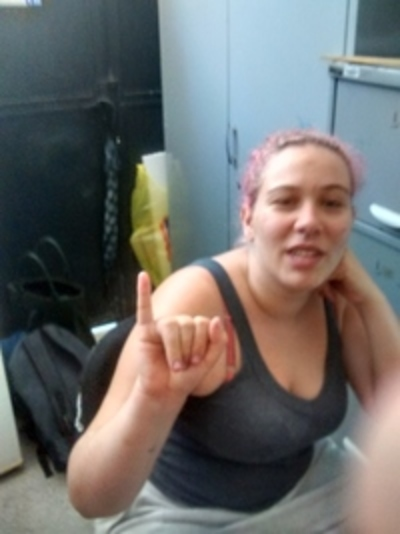closedhandfront: (118, 311, 240, 397)
mindinho: (132, 261, 151, 337)
